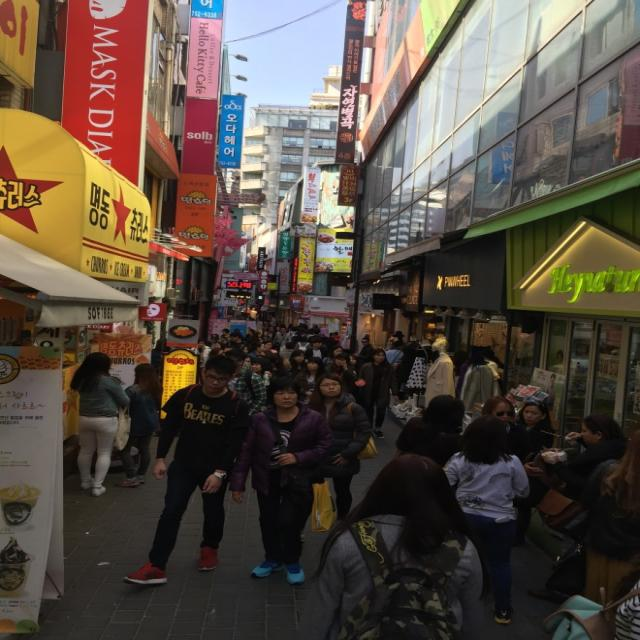body: (293, 452, 488, 640), (119, 353, 251, 587), (226, 374, 336, 588), (440, 413, 532, 626), (534, 410, 632, 571), (144, 302, 402, 349), (578, 428, 639, 606), (306, 374, 374, 529), (67, 351, 130, 499), (539, 566, 639, 640), (110, 362, 164, 489), (394, 394, 466, 471), (474, 394, 558, 460), (352, 347, 400, 440), (418, 334, 462, 414), (222, 348, 269, 417), (292, 356, 332, 418), (208, 347, 290, 374), (152, 346, 208, 381), (323, 353, 359, 395), (289, 346, 372, 364)
